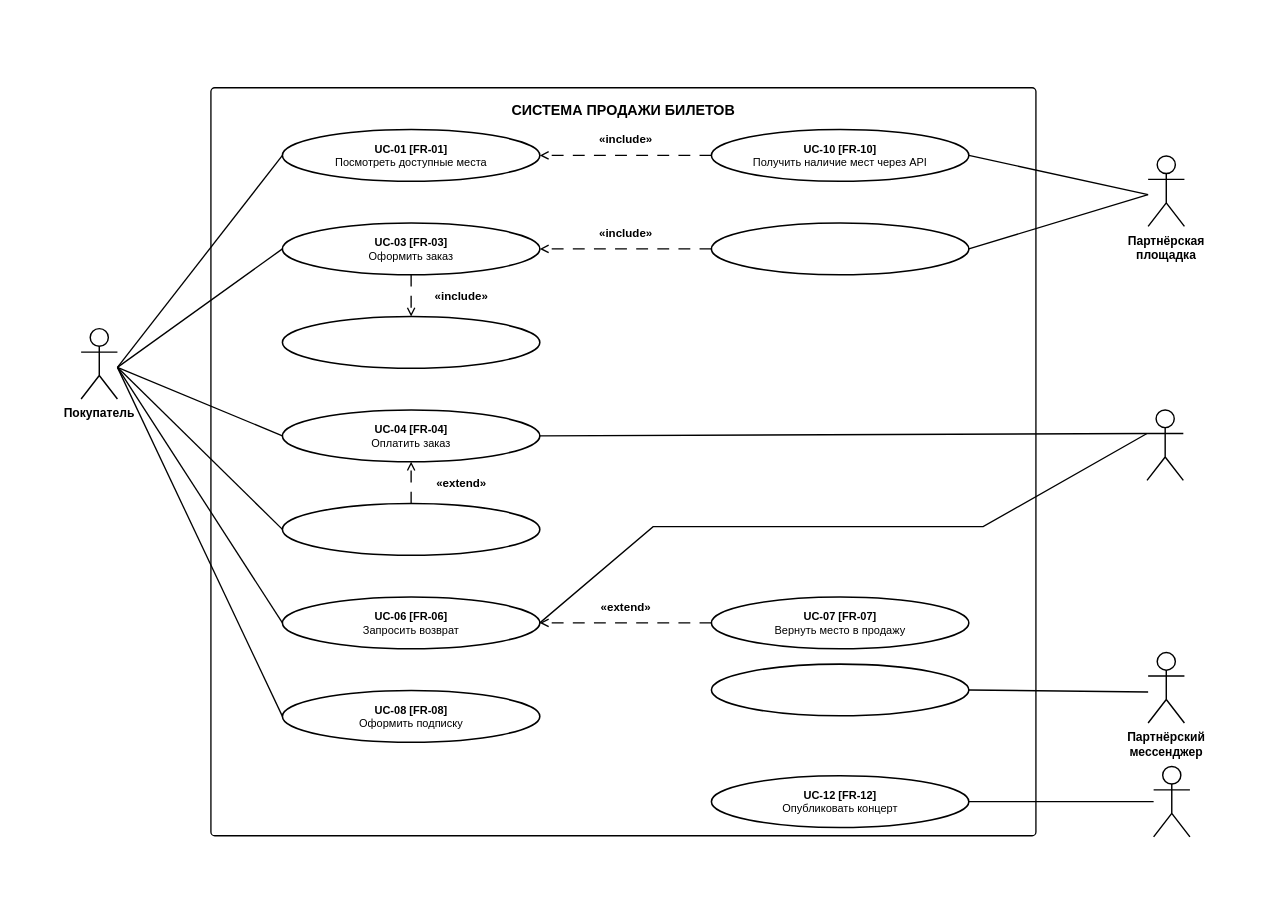
Image size: 1273x910. Some labels were removed from this diagram. The box of each missing label's shape, as (x1, y1, x2, y2) in pixels:
UC-02 [FR-02] Зарезервировать место: (281, 315, 540, 369)
UC-05 [FR-05] Получить электронный билет: (281, 502, 540, 556)
UC-09 [FR-09] Отправить приоритетное уведомление: (710, 663, 969, 716)
UC-11 [FR-11] Создать заказ через API: (710, 222, 969, 275)
Менеджер платформы: (1153, 765, 1190, 837)
Платёжный провайдер: (1146, 409, 1184, 481)
